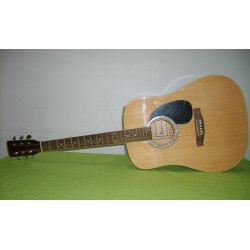guitar: (6, 75, 248, 175)
